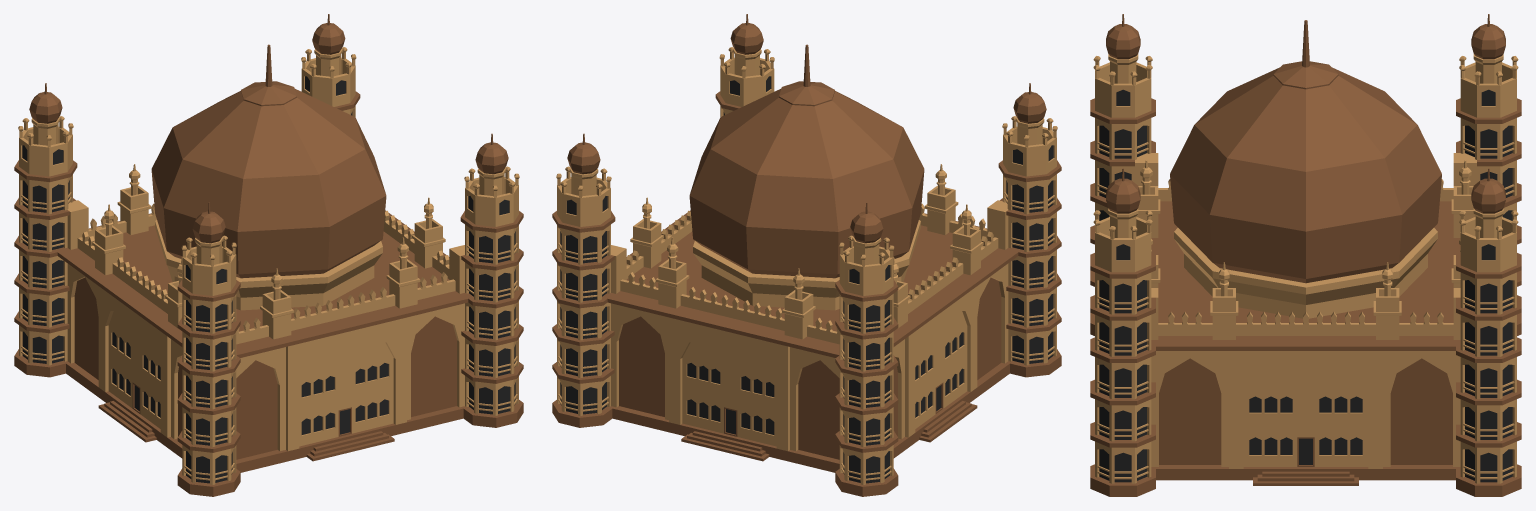
Rendered from hindu-tomb-dome.glb.
3 views of the same model, side by side, from view 1: azimuth 30°, elevation 25°; view 2: azimuth 150°, elevation 25°; view 3: azimuth 270°, elevation 25° (orthographic). The views are drawn at different scales.
Visible parts, largest first — view 1: hindu-tomb-dome; view 2: hindu-tomb-dome; view 3: hindu-tomb-dome.
Boxes of the visible parts, bbox=[...] form: hindu-tomb-dome: bbox=[14, 14, 523, 496]; hindu-tomb-dome: bbox=[552, 14, 1061, 496]; hindu-tomb-dome: bbox=[1090, 14, 1521, 496].
Size of the model in its own units: 27.72 by 27.32 by 27.72.
Materials: 1 (1 with a texture image).
